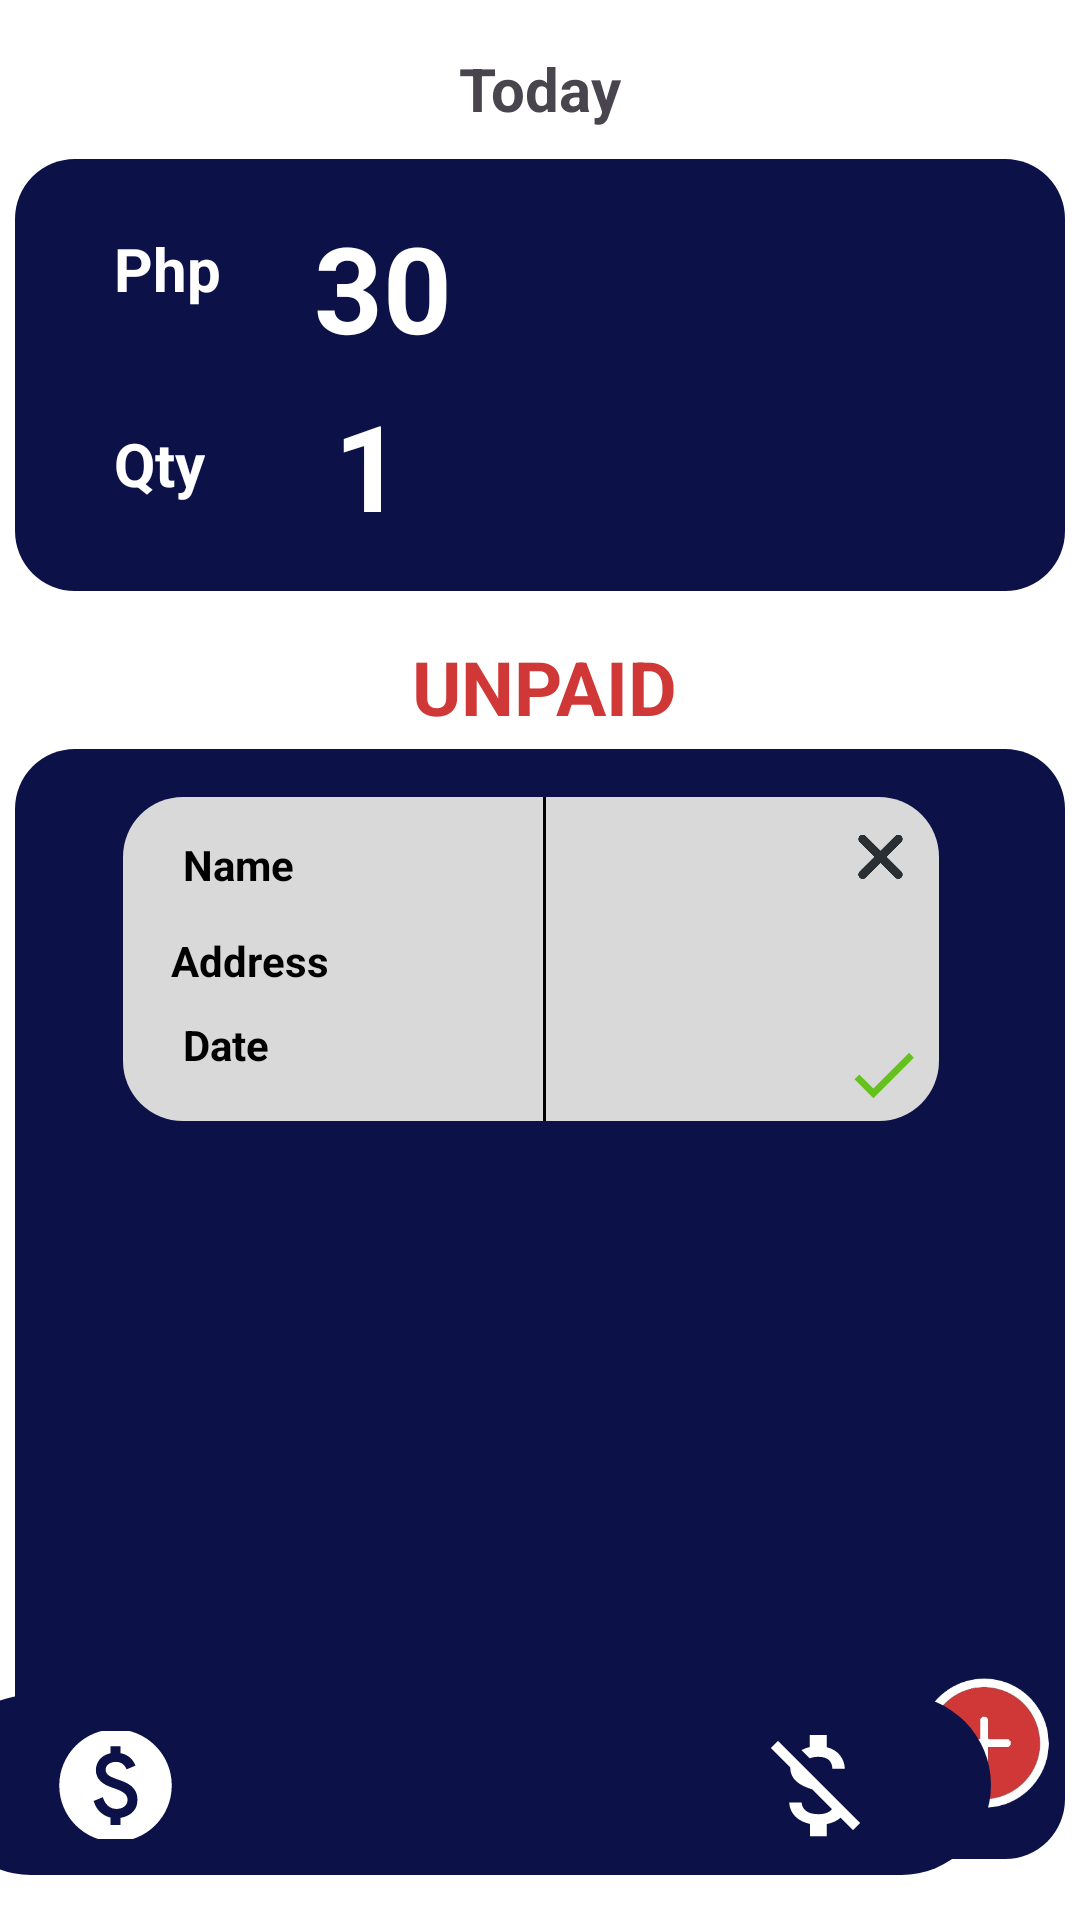

Where to tap for icons on this 1080px×1920px app screen, as (x,y):
check: (884,1075)
delete: (880,857)
